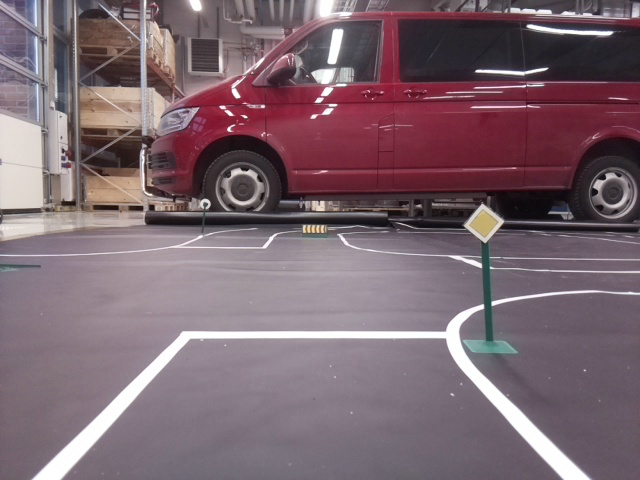Priority: (463, 204, 502, 241)
